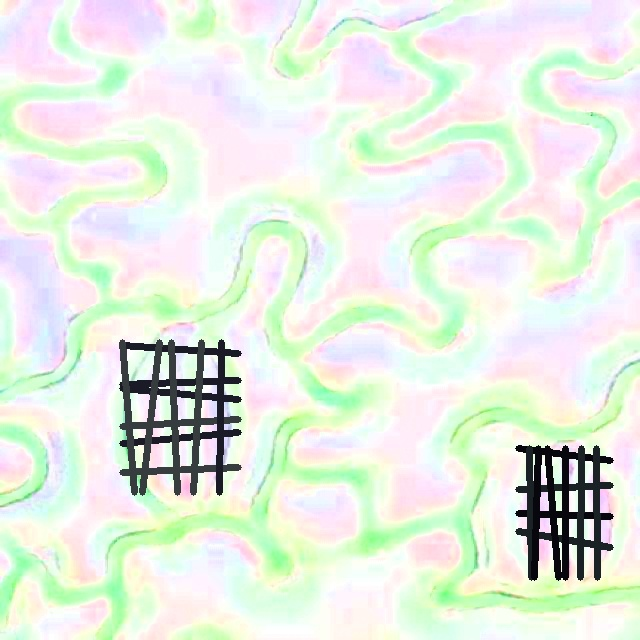open: (120, 340, 241, 495), (515, 445, 613, 580)
